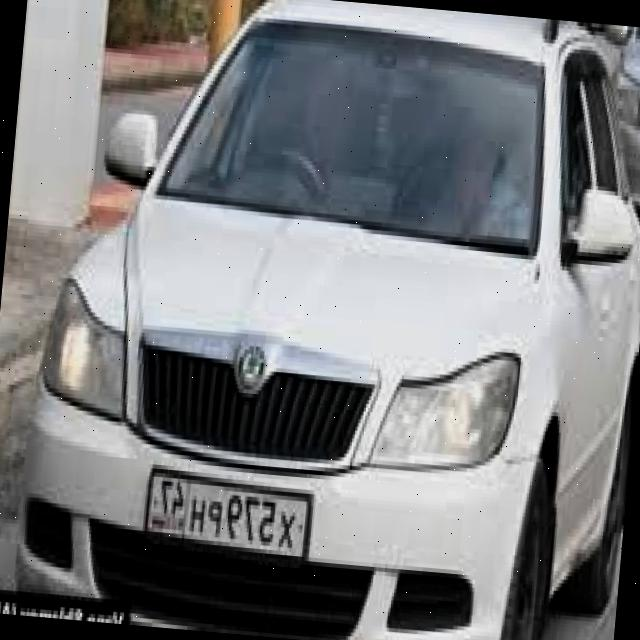number-plates: (141, 465, 317, 570)
